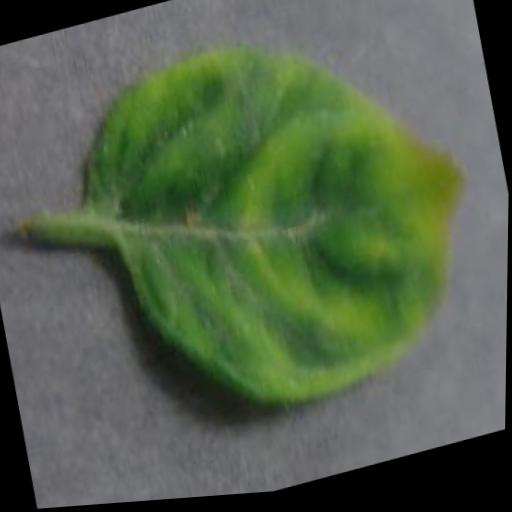Yellow Leaf Curl Virus: (68, 0, 503, 453)
